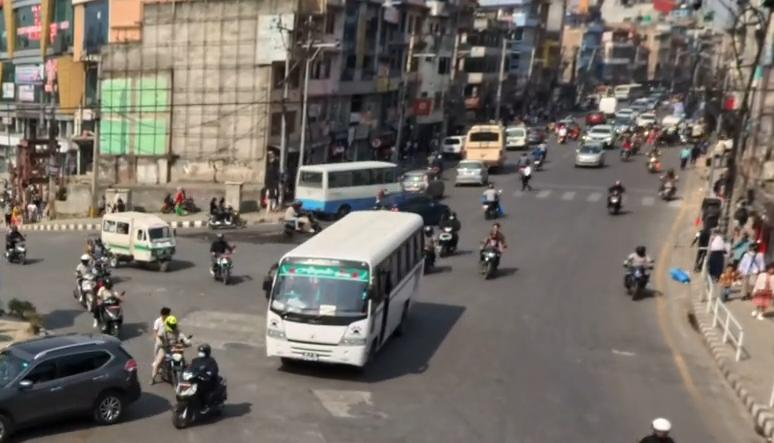bike: (210, 246, 234, 286)
bus: (272, 190, 438, 379), (294, 159, 410, 222)
car: (2, 327, 143, 437), (454, 156, 492, 189)
scooter: (171, 359, 229, 431), (95, 292, 128, 338), (4, 241, 30, 267)
tempo: (99, 210, 180, 275)
